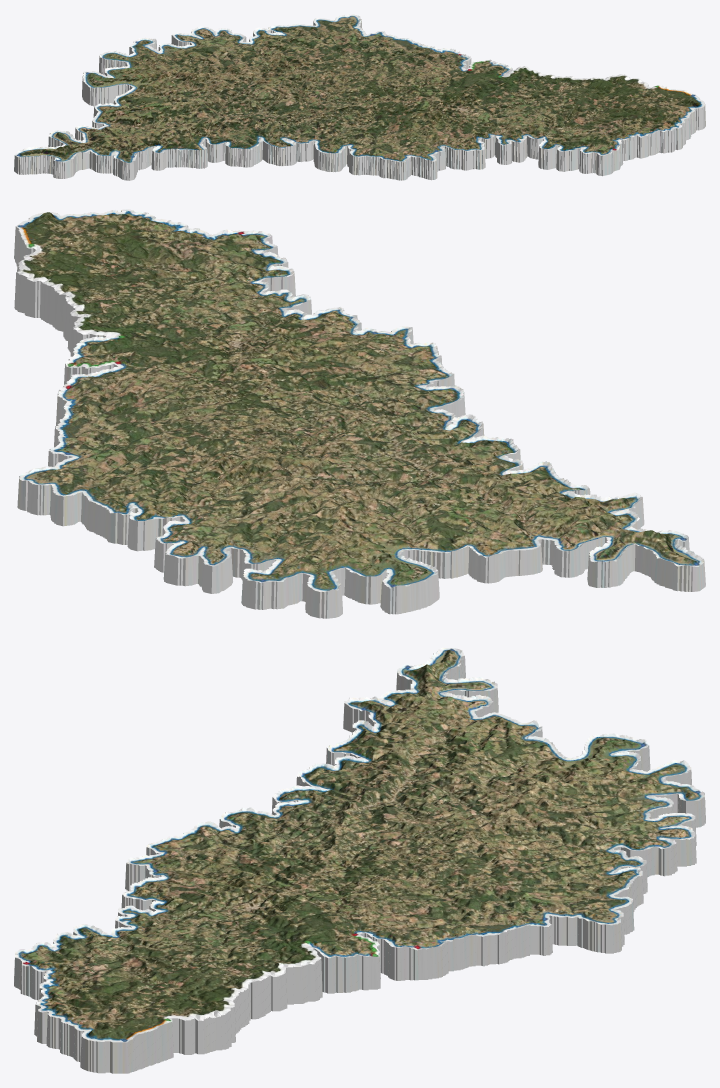
3 views of the same model, one above another, from view 1: azimuth 30°, elevation 25°; view 2: azimuth 150°, elevation 25°; view 3: azimuth 270°, elevation 25° (orthographic). The views are drawn at different scales.
Size of the model in its own units: 0.9965 by 0.0457 by 0.7239.
1 material, 1 textured.
